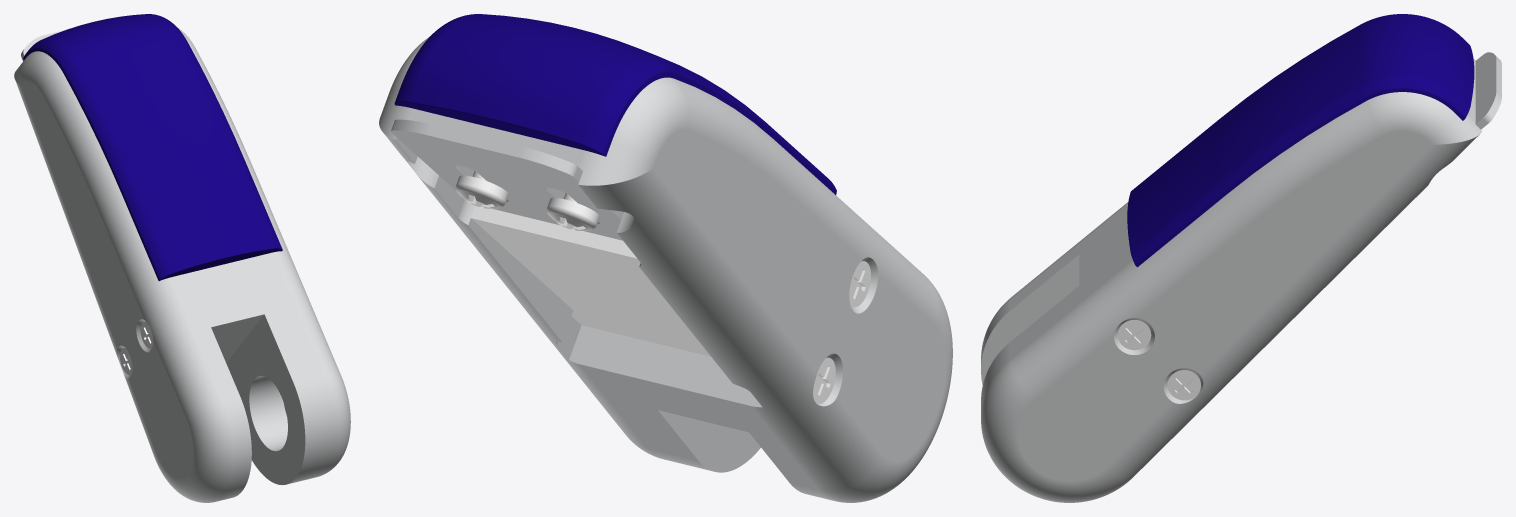
The model's file is finger_distal.glb.
The picture shows the model from 3 angles, left to right: view 1: azimuth 30°, elevation 25°; view 2: azimuth 150°, elevation 25°; view 3: azimuth 270°, elevation 25°; orthographic projection. The views are drawn at different scales.
Visible parts, largest first — view 1: B4160; view 2: B4160; view 3: B4160.
Part boxes in pixels (x1=…): B4160: x1=14, y1=14, x2=350, y2=502; B4160: x1=379, y1=14, x2=952, y2=502; B4160: x1=981, y1=14, x2=1501, y2=502.
Size of the model in its own units: 0.023 by 0.0511 by 0.056.
